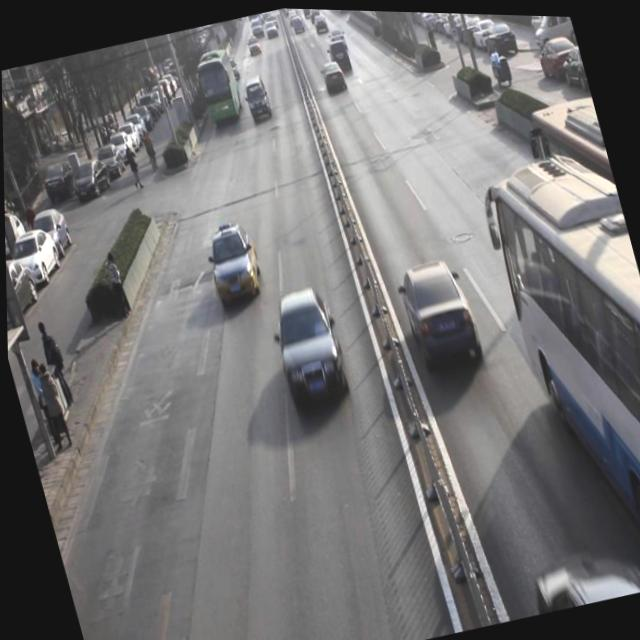car: (391, 249, 485, 371), (265, 281, 354, 408), (200, 216, 267, 304), (319, 56, 348, 93), (325, 35, 354, 71)
truck: (240, 70, 275, 121)
van: (478, 132, 640, 597), (526, 95, 640, 354), (191, 48, 245, 131)
